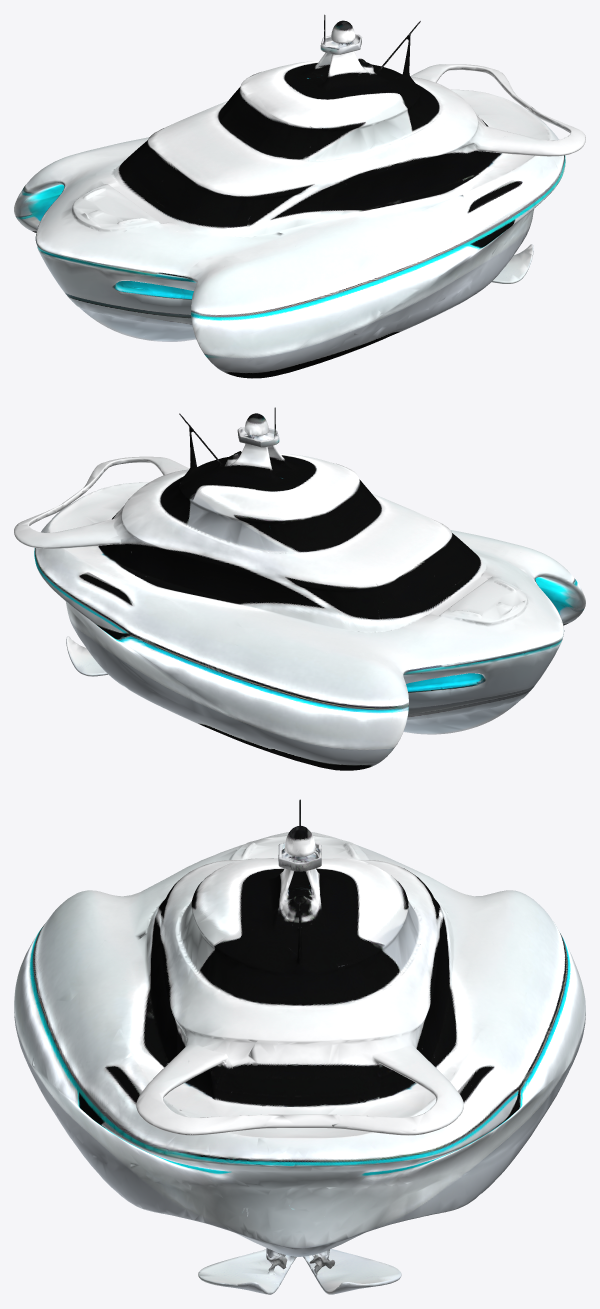
File: ship-yacht.glb
The picture shows the model from 3 angles, top to bottom: view 1: azimuth 30°, elevation 25°; view 2: azimuth 150°, elevation 25°; view 3: azimuth 270°, elevation 25°; orthographic projection. The views are drawn at different scales.
Size of the model in its own units: 1.91 by 1.07 by 1.39.
Materials: 1 (1 with a texture image).
